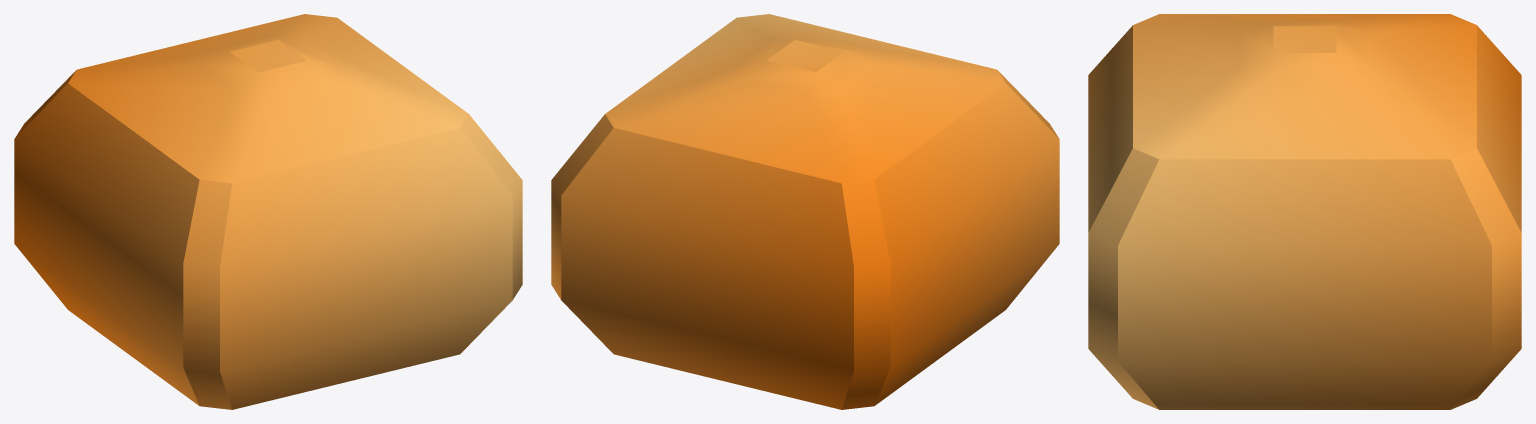
The model's file is Tigerseye.fbx.
3 renders of one model, left to right at view 1: azimuth 30°, elevation 25°; view 2: azimuth 150°, elevation 25°; view 3: azimuth 270°, elevation 25°, orthographic. The views are drawn at different scales.
Parts seen in each view (by area): view 1: TIGERSEYE.001; view 2: TIGERSEYE.001; view 3: TIGERSEYE.001.
Boxes of the visible parts, x1,y1,x2,y2 form: TIGERSEYE.001: (14, 14, 522, 409); TIGERSEYE.001: (551, 14, 1059, 409); TIGERSEYE.001: (1088, 14, 1521, 409).
Bounding box in the file's own units: 162 × 143 × 162.
1 material, 1 textured.
